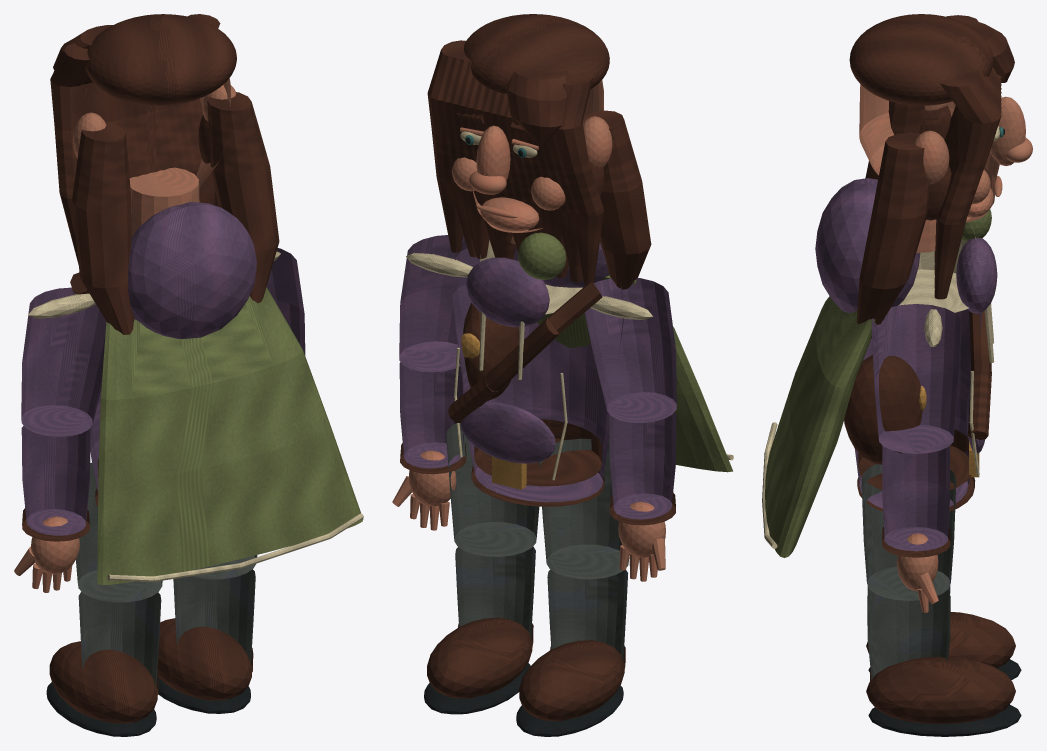
File: windfall-companion-a.glb
The picture shows the model from 3 angles, left to right: view 1: azimuth 30°, elevation 25°; view 2: azimuth 150°, elevation 25°; view 3: azimuth 270°, elevation 25°; orthographic projection. The views are drawn at different scales.
Visible parts, largest first — view 1: cape-surface-scarf, head-surface-hair, body-surface-coat, arm-L-surface-coat, forearm-L-surface-coat, foot-L-surface-leather, foot-R-surface-leather, shin-L-surface-pants, shin-R-surface-pants, leg-L-surface-pants, neck-surface-skin, forearm-L-surface-skin (+8 smaller); view 2: head-surface-hair, body-surface-coat, body-surface-leather, arm-L-surface-coat, head-surface-skin, foot-R-surface-leather, foot-L-surface-leather, leg-L-surface-pants, arm-R-surface-coat, forearm-L-surface-coat, leg-R-surface-pants, shin-L-surface-pants (+13 smaller); view 3: head-surface-hair, cape-surface-scarf, body-surface-coat, body-surface-leather, arm-R-surface-coat, foot-R-surface-leather, head-surface-skin, forearm-R-surface-coat, shin-R-surface-pants, leg-R-surface-pants, foot-L-surface-leather, body-surface-linen (+7 smaller).
Boxes of the visible parts, <box> form: cape-surface-scarf: <box>97,287,363,585</box>; head-surface-hair: <box>50,14,279,334</box>; body-surface-coat: <box>75,202,256,493</box>; arm-L-surface-coat: <box>21,287,106,436</box>; forearm-L-surface-coat: <box>21,425,90,535</box>; foot-L-surface-leather: <box>49,641,157,723</box>; foot-R-surface-leather: <box>157,618,251,700</box>; shin-L-surface-pants: <box>78,591,161,687</box>; shin-R-surface-pants: <box>173,569,255,666</box>; leg-L-surface-pants: <box>69,461,162,602</box>; neck-surface-skin: <box>129,167,199,237</box>; forearm-L-surface-skin: <box>14,516,79,592</box>; head-surface-hair: <box>427,14,651,289</box>; body-surface-coat: <box>452,239,623,502</box>; body-surface-leather: <box>448,282,604,506</box>; arm-L-surface-coat: <box>584,278,676,422</box>; head-surface-skin: <box>452,80,612,232</box>; foot-R-surface-leather: <box>427,617,532,698</box>; foot-L-surface-leather: <box>519,640,624,720</box>; leg-L-surface-pants: <box>538,438,629,579</box>; arm-R-surface-coat: <box>399,235,464,372</box>; forearm-L-surface-coat: <box>609,412,676,519</box>; leg-R-surface-pants: <box>446,423,539,556</box>; shin-L-surface-pants: <box>547,569,628,660</box>; head-surface-hair: <box>849,14,1014,338</box>; cape-surface-scarf: <box>765,296,875,557</box>; body-surface-coat: <box>815,178,997,508</box>; body-surface-leather: <box>844,311,991,511</box>; arm-R-surface-coat: <box>871,304,960,453</box>; foot-R-surface-leather: <box>866,656,1015,723</box>; head-surface-skin: <box>859,84,1032,222</box>; forearm-R-surface-coat: <box>882,446,949,551</box>; shin-R-surface-pants: <box>867,590,950,679</box>; leg-R-surface-pants: <box>861,464,956,600</box>; foot-L-surface-leather: <box>866,612,1015,668</box>; body-surface-linen: <box>898,227,994,475</box>.
Bounding box in the file's own units: 1.25 × 2.93 × 1.07.
Materials: 10 (10 with a texture image).
